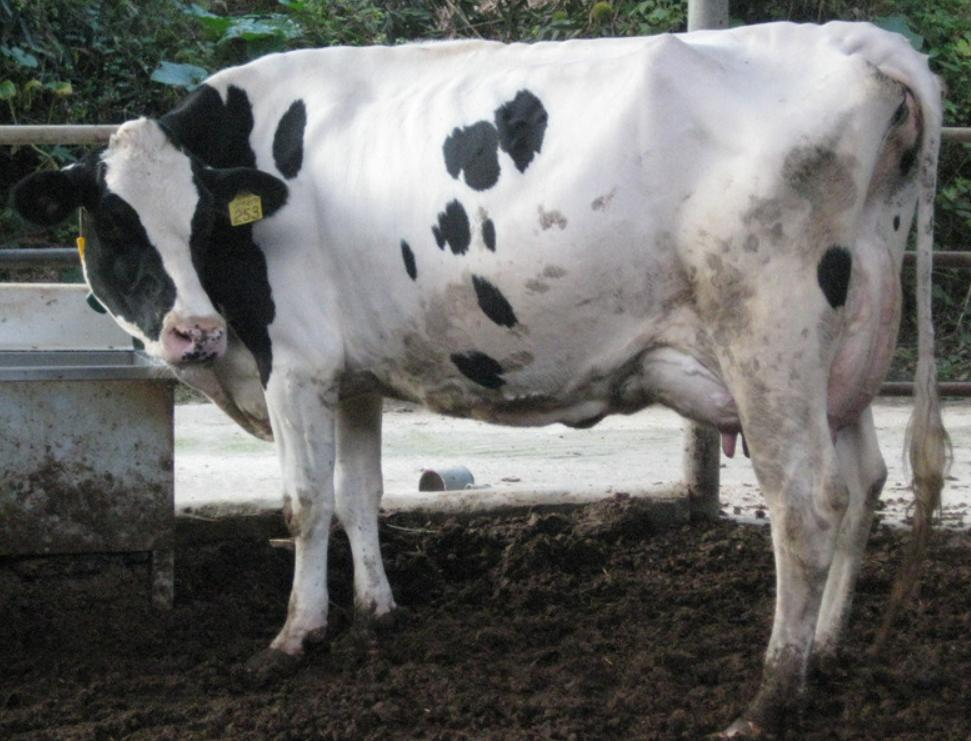cow: (73, 29, 936, 741)
